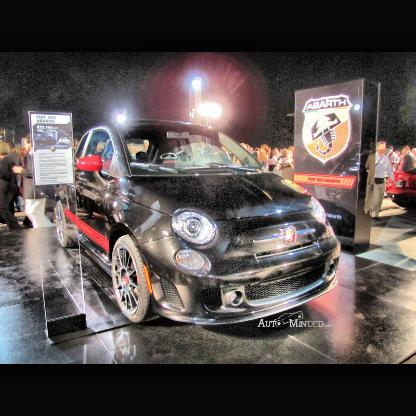FIAT 500 Abarth 2012: (56, 118, 344, 327)
